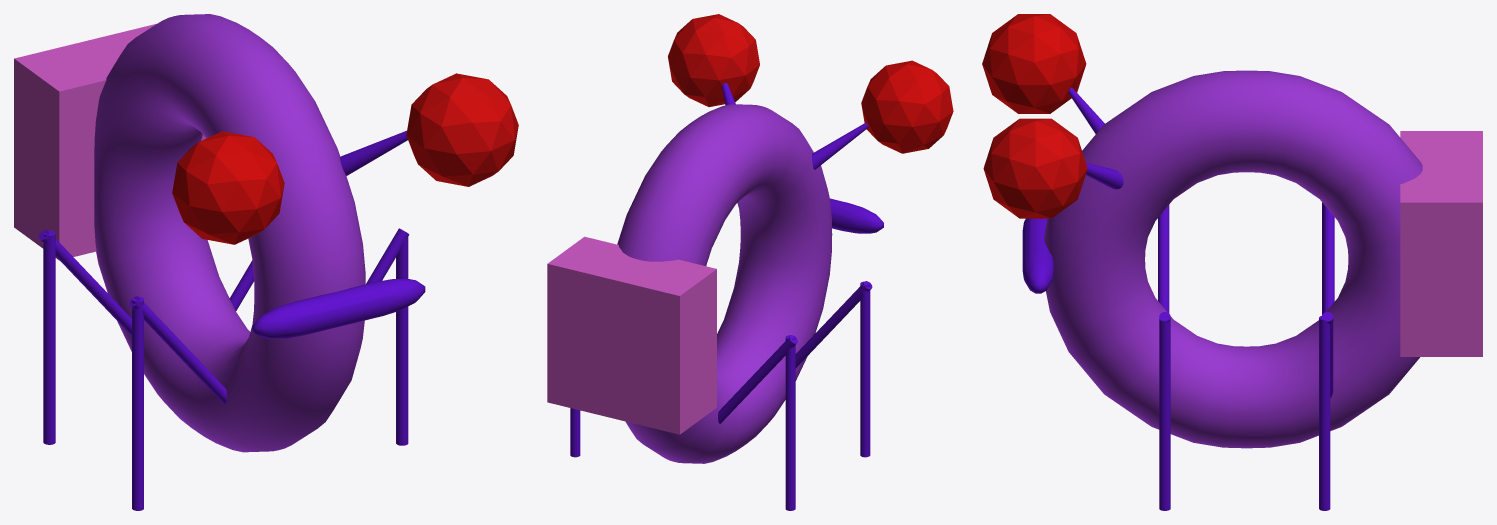
File: estatua.obj
3 views of the same model, side by side, from view 1: azimuth 30°, elevation 25°; view 2: azimuth 150°, elevation 25°; view 3: azimuth 270°, elevation 25° (orthographic). The views are drawn at different scales.
Parts seen in each view (by area): view 1: Icosphere.001; view 2: Icosphere.001; view 3: Icosphere.001.
Boxes of the visible parts, x1,y1,x2,y2 form: Icosphere.001: (14,14,518,510); Icosphere.001: (547,14,953,510); Icosphere.001: (982,14,1482,510).
Size of the model in its own units: 4.09 by 4.97 by 5.89.
